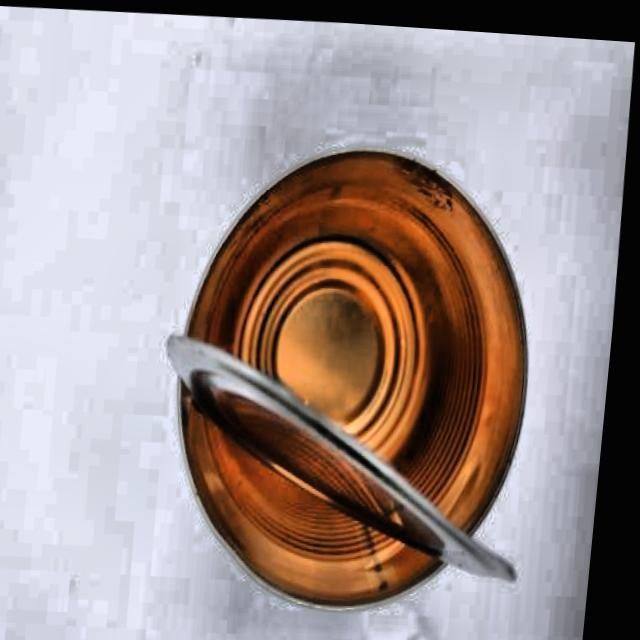Cans: (142, 107, 592, 635)
